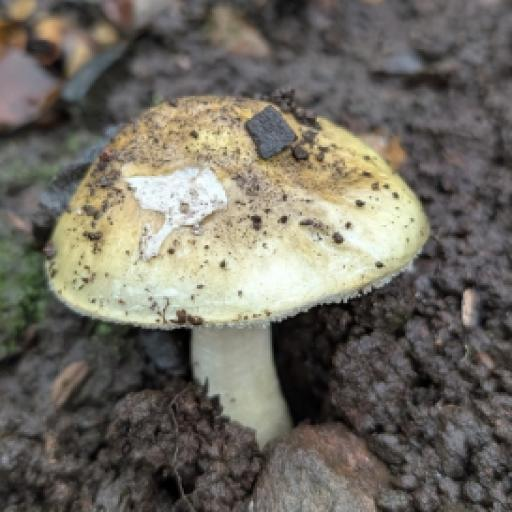mushroom: (18, 23, 452, 456)
